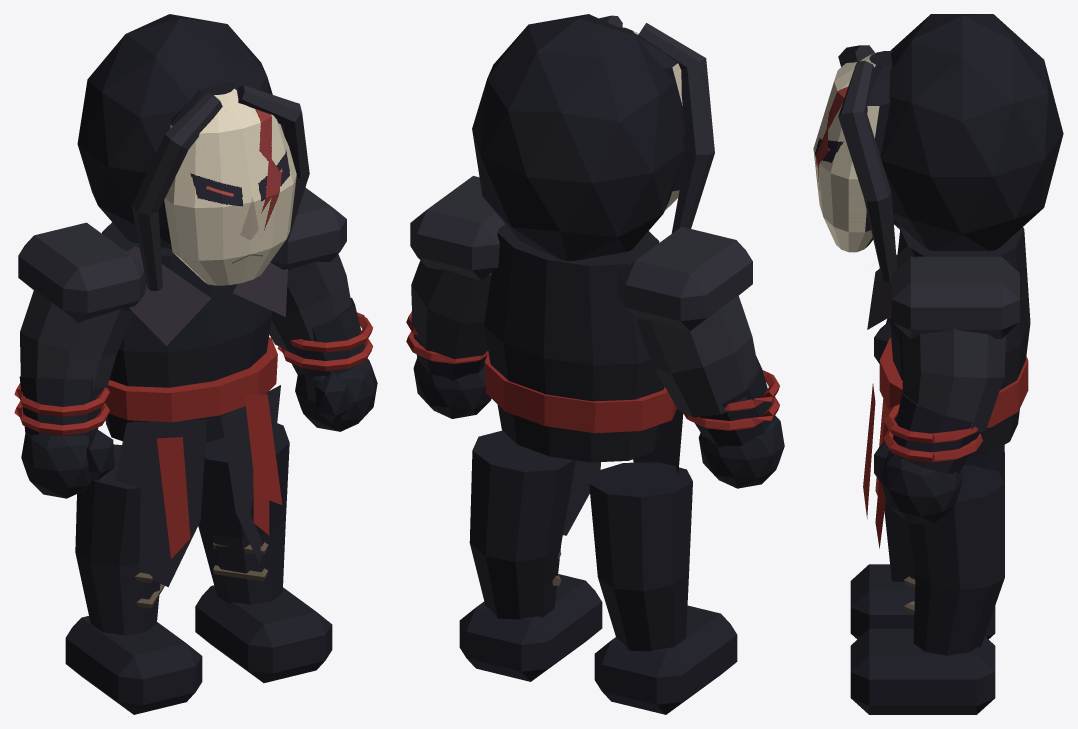
The model's file is assassin.glb.
3 views of the same model, side by side, from view 1: azimuth 30°, elevation 25°; view 2: azimuth 150°, elevation 25°; view 3: azimuth 270°, elevation 25° (orthographic). The views are drawn at different scales.
Parts seen in each view (by area): view 1: DeepHood, PorcelainMask, AssassinCoat, Trousers, Foot, Foot.001, ShoulderFold, Trousers.001, SplitCoattail, Sleeve, Sash, HoodRim (+19 smaller); view 2: DeepHood, AssassinCoat, Trousers, Trousers.001, ShoulderFold, Sleeve, Foot, Foot.001, ShoulderFold.001, Sash, Sleeve.001, HoodRim (+10 smaller); view 3: DeepHood, Trousers.001, Foot.001, ShoulderFold.001, Sleeve.001, PorcelainMask, HoodRim.001, AssassinCoat, Fist.001, Foot, Forearm.001, Sash (+9 smaller).
Boxes of the visible parts, box(x1,y1,x2,y2) form: DeepHood: box(77, 14, 272, 248); PorcelainMask: box(164, 82, 296, 285); AssassinCoat: box(102, 222, 272, 442); Trousers: box(75, 444, 160, 635); Foot: box(65, 616, 202, 714); Foot.001: box(195, 585, 332, 682); ShoulderFold: box(18, 222, 146, 322); Trousers.001: box(198, 423, 289, 604); SplitCoattail: box(115, 420, 206, 587); Sleeve: box(20, 289, 133, 390); Sash: box(105, 337, 277, 422); HoodRim: box(131, 93, 222, 290); DeepHood: box(472, 14, 684, 260); AssassinCoat: box(484, 224, 664, 462); Trousers: box(589, 462, 692, 651); Trousers.001: box(469, 430, 575, 619); ShoulderFold: box(618, 226, 752, 331); Sleeve: box(636, 295, 758, 417); Foot: box(594, 605, 737, 714); Foot.001: box(459, 574, 602, 681); ShoulderFold.001: box(410, 176, 505, 280); Sash: box(484, 352, 676, 433); Sleeve.001: box(411, 260, 491, 359); HoodRim: box(638, 23, 714, 233); DeepHood: box(880, 14, 1063, 250); Trousers.001: box(908, 465, 1004, 655); Foot.001: box(850, 629, 995, 714); ShoulderFold.001: box(892, 256, 1019, 338); Sleeve.001: box(902, 328, 1005, 432); PorcelainMask: box(813, 51, 892, 252); HoodRim.001: box(838, 60, 897, 282); AssassinCoat: box(890, 227, 1030, 457); Fist.001: box(880, 450, 962, 523); Foot: box(850, 564, 995, 639); Forearm.001: box(893, 394, 979, 473); Sash: box(879, 338, 1028, 427).
Size of the model in its own units: 0.9843 by 1.74 by 0.605.
6 materials, 1 textured.
